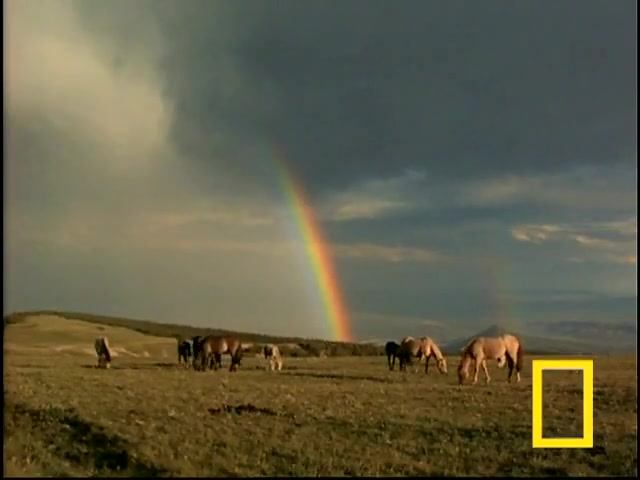horse: (456, 332, 525, 389)
